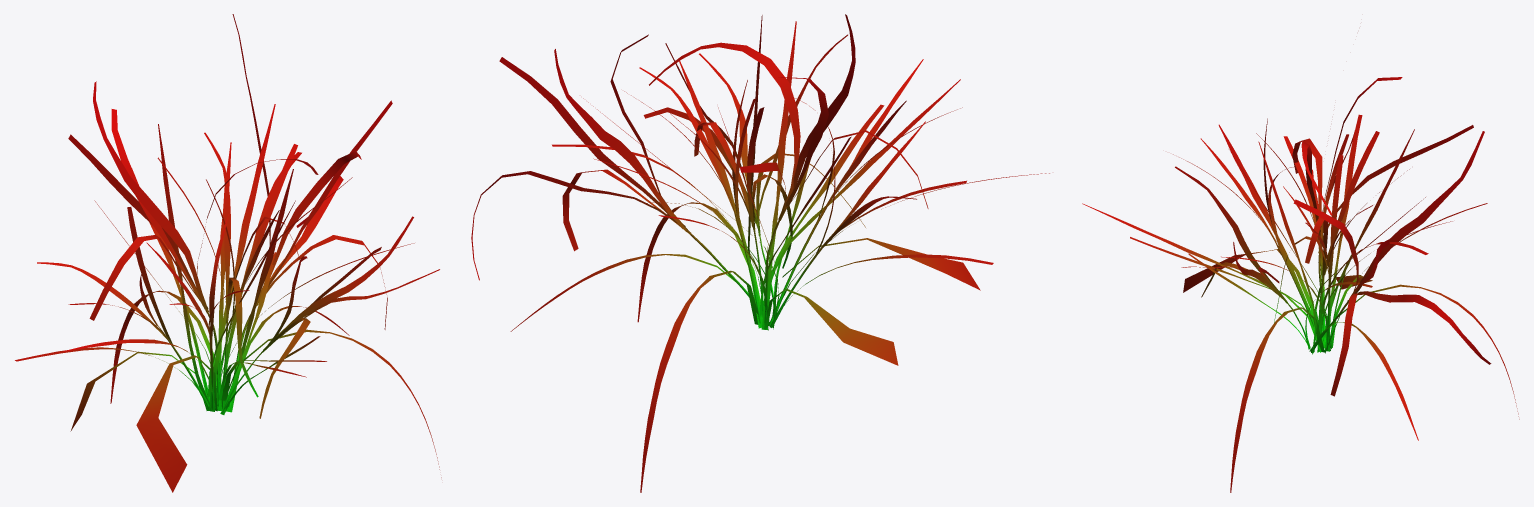
The model's file is Lemongrass_LOD1_Var4_sktne.fbx.
3 views of the same model, side by side, from view 1: azimuth 30°, elevation 25°; view 2: azimuth 150°, elevation 25°; view 3: azimuth 270°, elevation 25° (orthographic). The views are drawn at different scales.
Parts seen in each view (by area): view 1: _7450_Var4_LOD1; view 2: _7450_Var4_LOD1; view 3: _7450_Var4_LOD1.
Boxes of the visible parts, box(x1,y1,x2,y2) form: _7450_Var4_LOD1: box(15, 14, 441, 492); _7450_Var4_LOD1: box(471, 14, 1049, 492); _7450_Var4_LOD1: box(1082, 77, 1519, 492).
Bounding box in the file's own units: 67.45 × 62.34 × 68.19.
